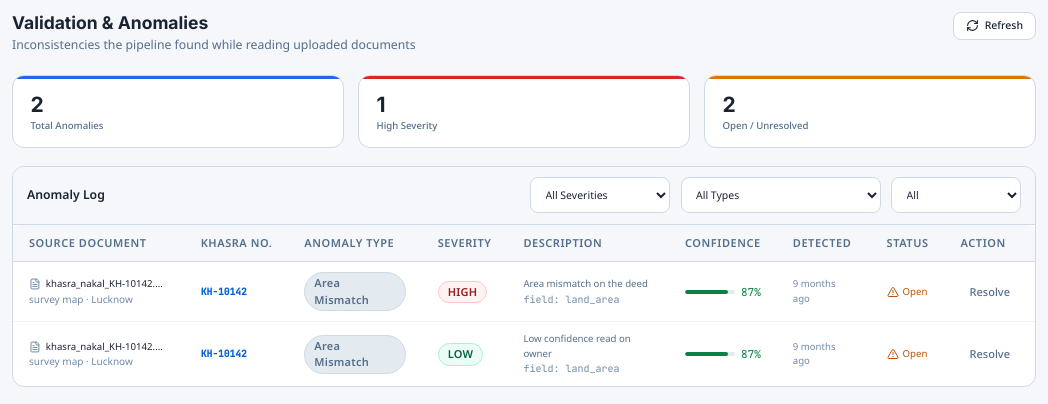
Scenario: AnomaliesPage with real findings › filters the log by severity
The width and height of the screenshot is (1048, 404).
Expected: the text "Area mismatch on the deed" is shown, [523,277,648,290]
Step 1. Select "LOW" in the 1st dropdown showing "All Severities" → (600, 195), box [530,177,670,213]
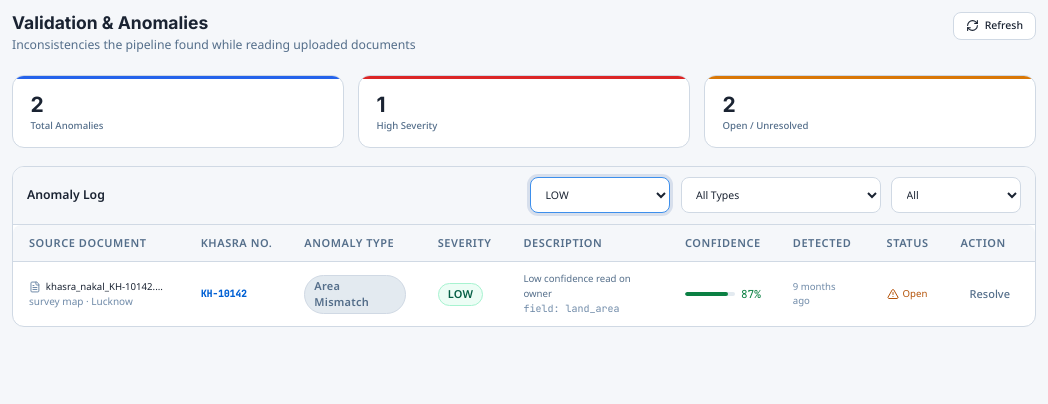
Expected: the text "Low confidence read on owner" is shown, [523,272,631,300]
Now the text "Area mismatch on the deed" is gone
